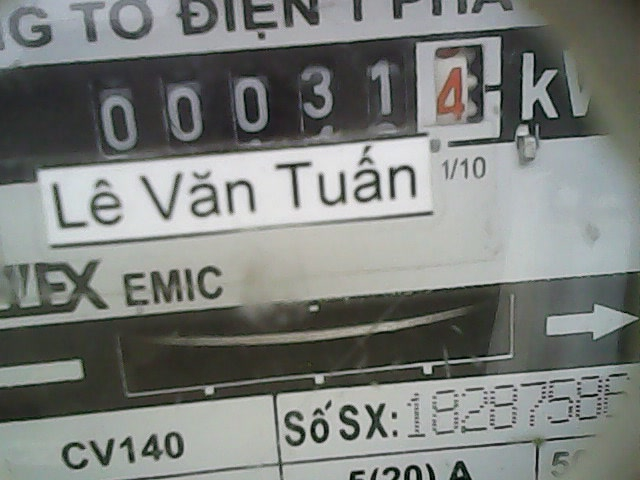phy_plate: (76, 27, 517, 158)
